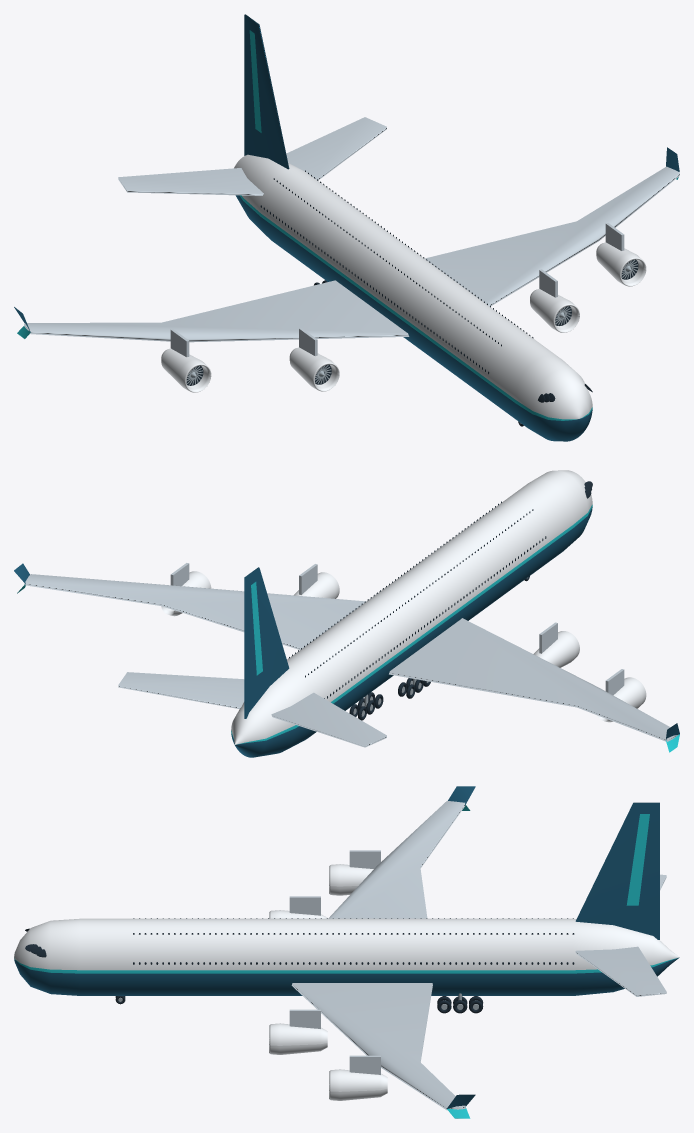
3 renders of one model, top to bottom at view 1: azimuth 30°, elevation 25°; view 2: azimuth 150°, elevation 25°; view 3: azimuth 270°, elevation 25°, orthographic. The views are drawn at different scales.
Visible parts, largest first — view 1: Fuselage_white, WingRight_wing, WingLeft_wing, Fuselage_paint, VerticalTail_paint, HorizontalTailRight_wing, HorizontalTailLeft_wing, Fuselage_accent, EngineRight_white, EngineRightOuter_white, EngineLeftOuter_white, EngineLeft_white (+1 smaller); view 2: Fuselage_white, WingRight_wing, WingLeft_wing, Fuselage_paint, VerticalTail_paint, HorizontalTailLeft_wing, HorizontalTailRight_wing, Fuselage_accent, EngineRight_white, CabinWindows_dark, EngineRightOuter_white, EngineLeft_white (+3 smaller); view 3: Fuselage_white, Fuselage_paint, WingLeft_wing, VerticalTail_paint, WingRight_wing, HorizontalTailLeft_wing, Fuselage_accent, EngineLeft_white, EngineLeftOuter_white, VerticalTail_accent, EngineRightOuter_white, CabinWindows_dark (+5 smaller).
Part boxes in pixels (<box>): Fuselage_white: <box>234,154,592,419</box>; WingRight_wing: <box>24,280,409,342</box>; WingLeft_wing: <box>424,166,679,306</box>; Fuselage_paint: <box>235,195,592,441</box>; VerticalTail_paint: <box>244,14,289,169</box>; HorizontalTailRight_wing: <box>118,168,263,195</box>; HorizontalTailLeft_wing: <box>286,117,386,179</box>; Fuselage_accent: <box>239,195,592,420</box>; EngineRight_white: <box>289,347,339,391</box>; EngineRightOuter_white: <box>161,348,211,392</box>; EngineLeftOuter_white: <box>596,242,646,286</box>; EngineLeft_white: <box>530,288,579,332</box>; Fuselage_white: <box>231,470,592,744</box>; WingRight_wing: <box>389,618,679,741</box>; WingLeft_wing: <box>24,574,366,649</box>; Fuselage_paint: <box>231,507,592,757</box>; VerticalTail_paint: <box>244,567,289,718</box>; HorizontalTailLeft_wing: <box>118,672,244,709</box>; HorizontalTailRight_wing: <box>271,692,386,747</box>; Fuselage_accent: <box>231,504,592,744</box>; EngineRight_white: <box>533,631,579,667</box>; CabinWindows_dark: <box>288,501,546,698</box>; EngineRightOuter_white: <box>597,677,646,722</box>; EngineLeft_white: <box>294,572,339,598</box>; Fuselage_white: <box>14,918,679,970</box>; Fuselage_paint: <box>14,957,679,995</box>; WingLeft_wing: <box>291,983,465,1110</box>; VerticalTail_paint: <box>575,802,659,939</box>; WingRight_wing: <box>328,801,465,918</box>; HorizontalTailLeft_wing: <box>575,946,666,996</box>; Fuselage_accent: <box>14,958,677,973</box>; EngineLeft_white: <box>269,1023,327,1054</box>; EngineLeftOuter_white: <box>329,1069,387,1100</box>; VerticalTail_accent: <box>626,814,649,905</box>; EngineRightOuter_white: <box>329,864,373,895</box>; CabinWindows_dark: <box>133,918,574,964</box>.
Bounding box in the file's own units: 79.75 × 24.09 × 72.72.
